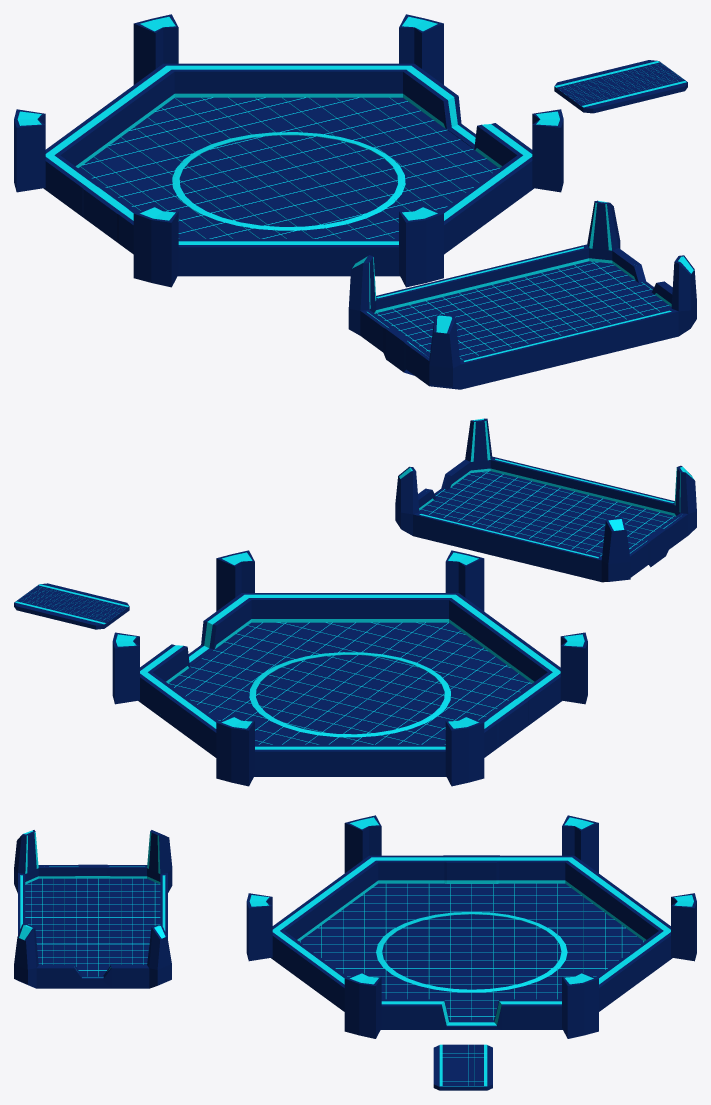
Rendered from Map boss new ( Ketutup ).fbx.
3 views of the same model, one above another, from view 1: azimuth 30°, elevation 25°; view 2: azimuth 150°, elevation 25°; view 3: azimuth 270°, elevation 25° (orthographic). The views are drawn at different scales.
Visible parts, largest first — view 1: Cylinder.001, Plane, Cube, Plane.001, Plane.002, Cylinder, Cube.001; view 2: Cylinder.001, Plane, Cube, Plane.001, Plane.002, Cylinder, Cube.001; view 3: Cylinder.001, Plane, Plane.001, Cube, Plane.002, Cylinder, Cube.001.
Boxes of the visible parts, x1,y1,x2,y2 form: Cylinder.001: (14,14,563,287); Plane: (78,97,499,238); Cube: (348,200,696,389); Plane.001: (375,261,671,359); Plane.002: (554,61,686,107); Cylinder: (172,132,405,230); Cube.001: (554,60,687,113); Cylinder.001: (112,550,587,786); Plane: (168,622,531,744); Cube: (395,418,696,582); Plane.001: (419,471,674,556); Plane.002: (15,584,128,624); Cylinder: (249,652,450,737); Cube.001: (14,583,129,629); Cylinder.001: (246,815,696,1038); Plane: (299,883,643,1020); Plane.001: (25,878,160,977); Cube: (14,830,172,988); Plane.002: (439,1044,487,1086); Cylinder: (376,912,567,992); Cube.001: (433,1045,492,1090).
Bounding box in the file's own units: 2132 × 331 × 2595.
